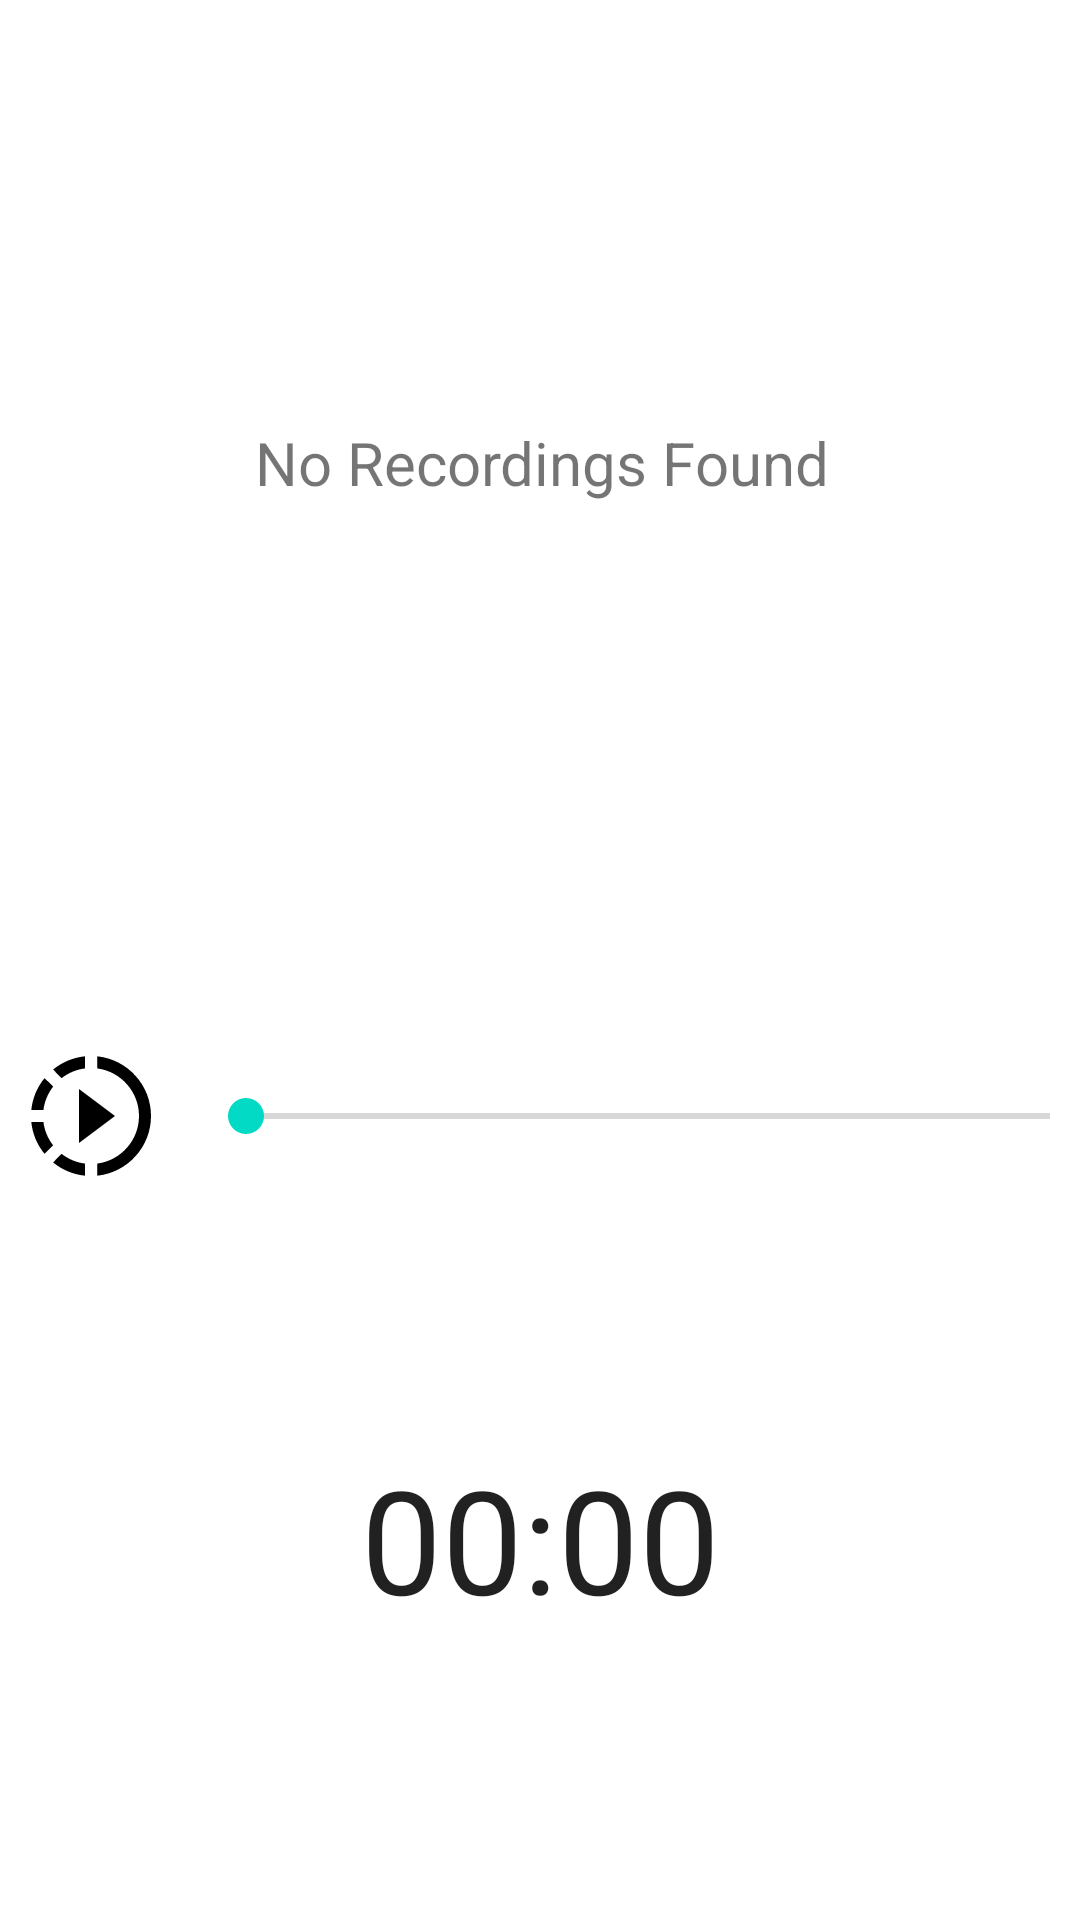

Locate icon controls on the screen. Image size 1080px x 1920px, boxes as (x1, y1, x2, y2).
slow motion video: (31, 1056, 151, 1176)
